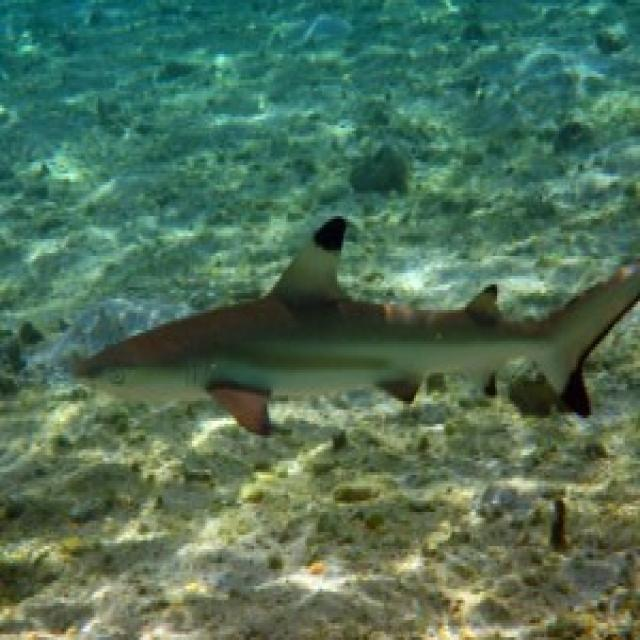Shark: (79, 220, 640, 471)
